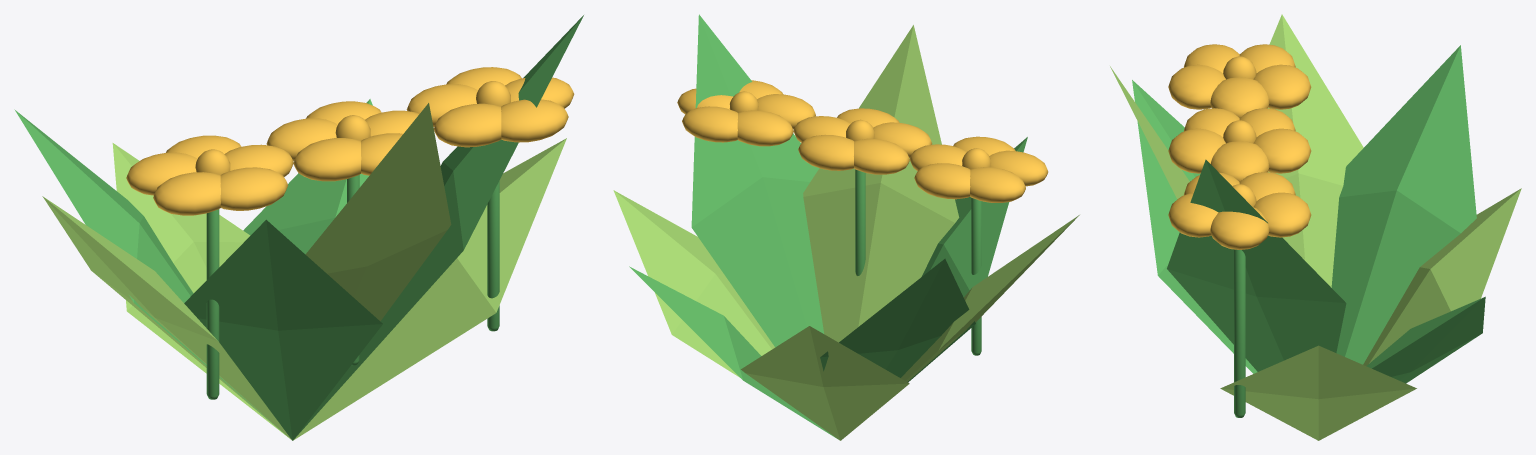
Rendered from Bush.fbx.
3 views of the same model, side by side, from view 1: azimuth 30°, elevation 25°; view 2: azimuth 150°, elevation 25°; view 3: azimuth 270°, elevation 25° (orthographic). The views are drawn at different scales.
Visible parts, largest first — view 1: GEO-Body; view 2: GEO-Body; view 3: GEO-Body.
Boxes of the visible parts, x1=… form: GEO-Body: x1=14, y1=15, x2=583, y2=440; GEO-Body: x1=613, y1=14, x2=1079, y2=440; GEO-Body: x1=1110, y1=14, x2=1521, y2=440.
Bounding box in the file's own units: 0.8931 × 0.65 × 0.6278.
